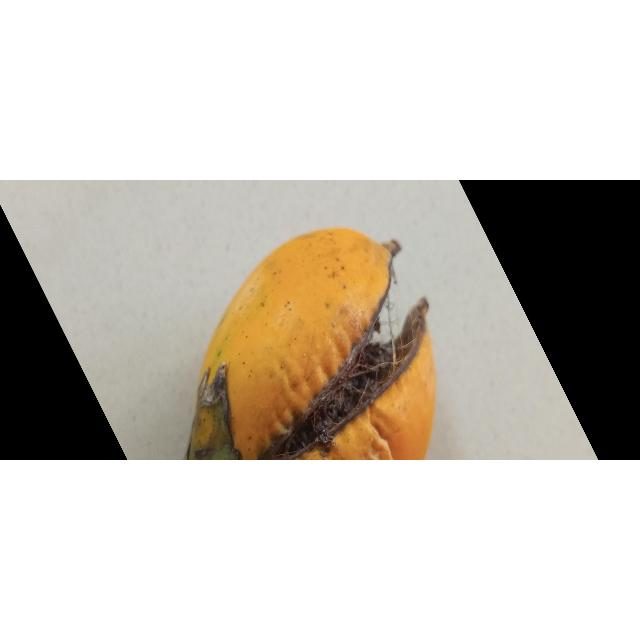damaged: (184, 228, 436, 461)
